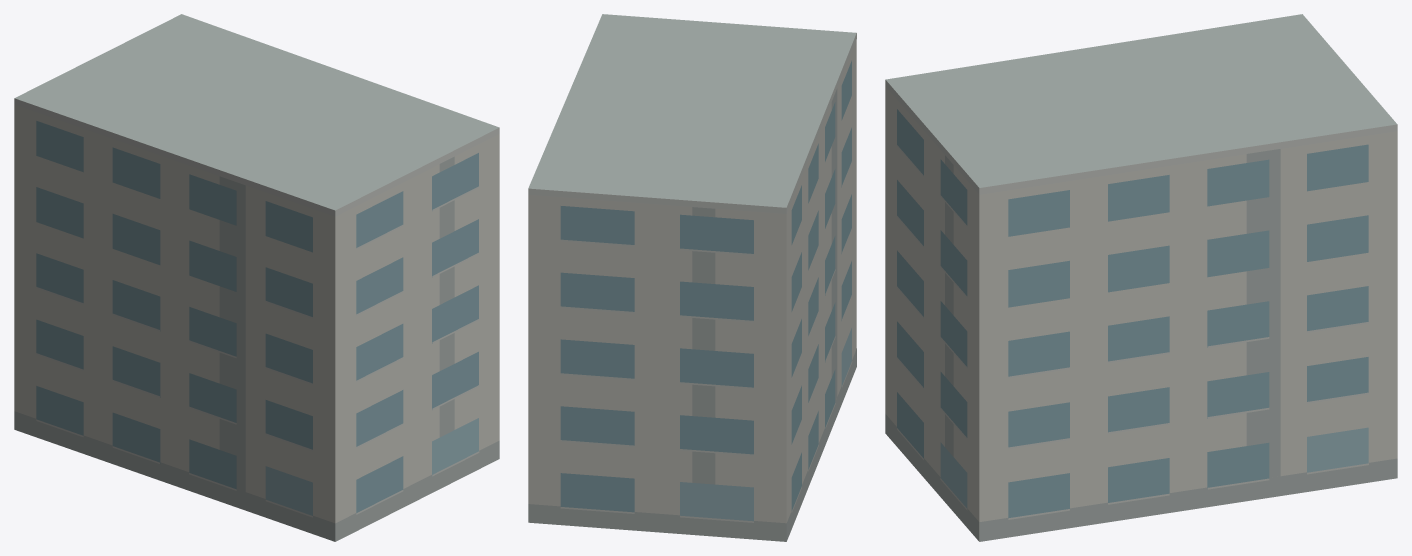
The model's file is survey-upis-32853016.glb.
3 views of the same model, side by side, from view 1: azimuth 30°, elevation 25°; view 2: azimuth 150°, elevation 25°; view 3: azimuth 270°, elevation 25° (orthographic). The views are drawn at different scales.
Parts seen in each view (by area): view 1: survey-upis-32853016.tmp; view 2: survey-upis-32853016.tmp; view 3: survey-upis-32853016.tmp.
Boxes of the visible parts, <box> form: survey-upis-32853016.tmp: <box>14,14,499,541</box>; survey-upis-32853016.tmp: <box>528,14,856,541</box>; survey-upis-32853016.tmp: <box>885,14,1397,541</box>.
Bounding box in the file's own units: 13.72 × 13 × 17.06.
